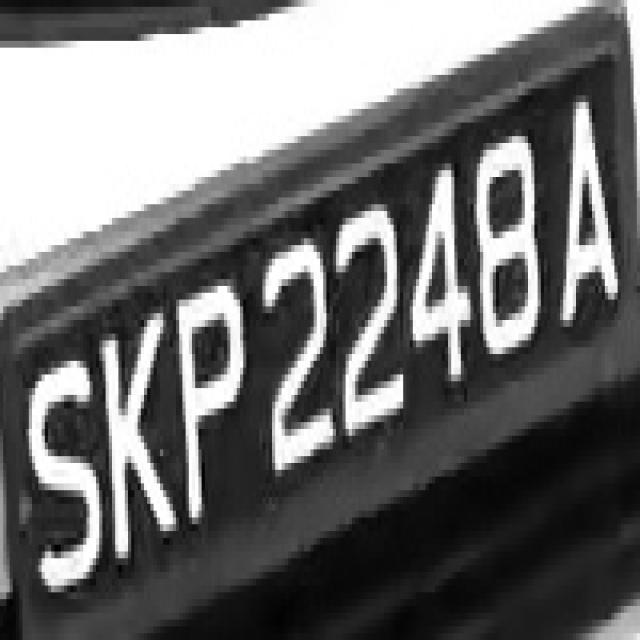2: (259, 245, 346, 490), (330, 205, 416, 450)
4: (394, 157, 474, 429)
8: (467, 115, 547, 368)
A: (544, 75, 627, 327)
K: (102, 279, 176, 572)
P: (179, 272, 253, 538)
S: (16, 334, 102, 599)
